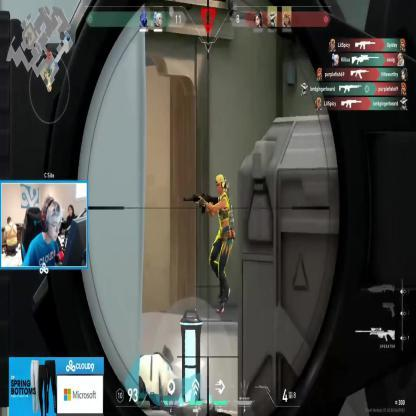enemy: (206, 173, 235, 315)
enemy_head: (216, 174, 225, 196)
